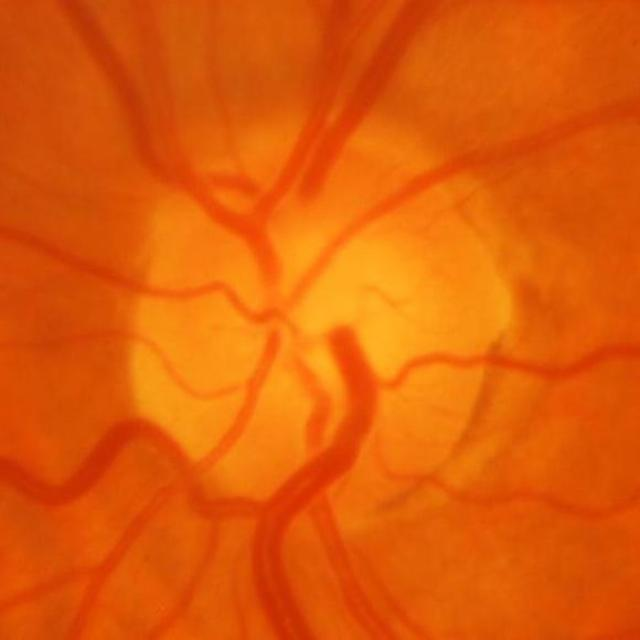OC: (267, 236, 428, 401)
OD: (125, 119, 527, 528)
